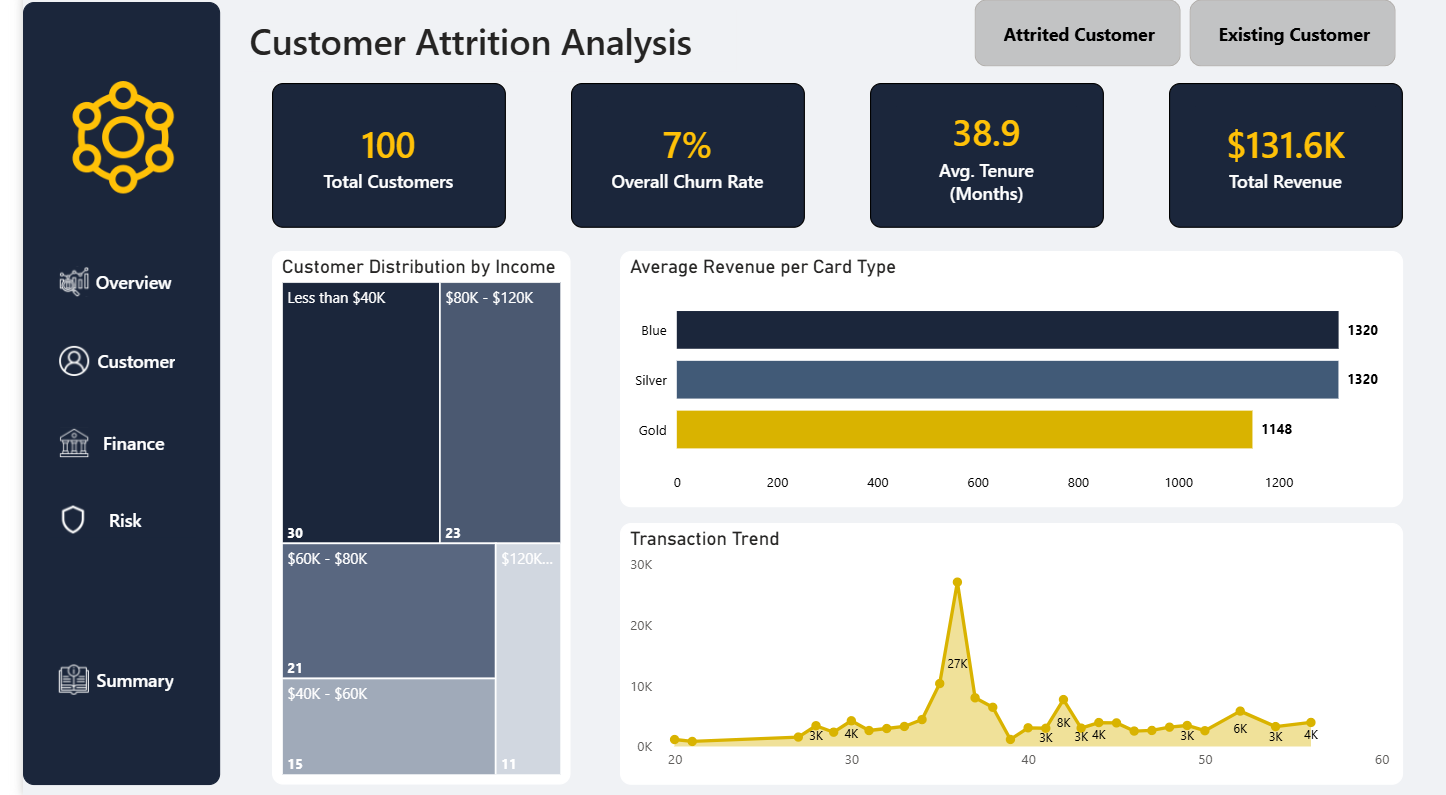

Layout of this report page (visuals, bound fields, positions):
{"tool":"powerbi","page":{"name":"Finance","canvas":[1280,720],"ordinal":2},"visuals":[{"type":"textbox","box":[198.2,14.5,441.8,55.5],"z":0},{"type":"shape","box":[0,7,177,703],"z":1000},{"type":"image","box":[4.5,78.2,171.8,100.9],"z":2000},{"type":"cardVisual","title":"Total Customers","fields":{"Data":["CountNonNull(Credit_Limits.Customer_ID)"]},"box":[223.6,80,210,130],"z":3000},{"type":"cardVisual","title":"Total Customers","fields":{"Data":["Overall_Churn.Churn_Rate_Final"]},"box":[492.1,80,210,130],"z":4000},{"type":"cardVisual","title":"Total Customers","fields":{"Data":["Avg(View_Monthly_Transaction_Trend.Tenure_Months)"]},"box":[760.6,80,210,130],"z":5000},{"type":"cardVisual","title":"Total Customers","fields":{"Data":["Sum(View_Monthly_Transaction_Trend.Sum_Transaction_Value)"]},"box":[1029.1,80,210,130],"z":6000},{"type":"treemap","title":"Customer Distribution by Income","fields":{"Group":["Customer.Income_Range"],"Values":["CountNonNull(Customer.Customer_ID)"]},"box":[223.5,230.7,268.4,479.4],"z":7000},{"type":"clusteredBarChart","title":"Average Revenue per Card Type","fields":{"Y":["Avg(Bank_Activity.Total_Transaction_Amount)"],"Category":["Bank_Activity.Card_Type"]},"box":[536,230.9,702.8,230],"z":8000},{"type":"stackedAreaChart","title":"Transaction Trend","fields":{"Category":["Bank_Activity.Tenure_Months"],"Y":["Sum(Bank_Activity.Total_Transaction_Amount)"]},"box":[536,474.6,702.8,234.6],"z":9000},{"type":"advancedSlicerVisual","fields":{"Values":["Bank_Activity.Churn_Status"]},"box":[849.1,0,389.1,70],"z":10000},{"type":"actionButton","box":[22.4,237.9,132.9,40.4],"z":11000},{"type":"actionButton","box":[22.4,308.2,132.9,43.1],"z":12000},{"type":"actionButton","box":[22.4,454.3,132.9,34.1],"z":13000},{"type":"actionButton","box":[22.4,381.2,132.9,43.1],"z":14000},{"type":"actionButton","box":[25,597,135,37],"z":15000},{"type":"textbox","box":[887,497.4,302.5,49.4],"z":16000}]}

Visuals, with their boxes in screenshot pixels (x1, y1, x2, y2), scaled from the page's 1280x720 canvas onto the 1446x795 screenshot:
textbox: <bbox>224, 16, 723, 77</bbox>
shape: <bbox>0, 8, 200, 784</bbox>
image: <bbox>5, 86, 199, 198</bbox>
"Total Customers" cardVisual: <bbox>253, 88, 490, 232</bbox>
"Total Customers" cardVisual: <bbox>556, 88, 793, 232</bbox>
"Total Customers" cardVisual: <bbox>859, 88, 1096, 232</bbox>
"Total Customers" cardVisual: <bbox>1163, 88, 1400, 232</bbox>
"Customer Distribution by Income" treemap: <bbox>252, 255, 556, 784</bbox>
"Average Revenue per Card Type" clusteredBarChart: <bbox>606, 255, 1399, 509</bbox>
"Transaction Trend" stackedAreaChart: <bbox>606, 524, 1399, 783</bbox>
advancedSlicerVisual - Bank_Activity.Churn_Status: <bbox>959, 0, 1399, 77</bbox>
actionButton: <bbox>25, 263, 175, 307</bbox>
actionButton: <bbox>25, 340, 175, 388</bbox>
actionButton: <bbox>25, 502, 175, 539</bbox>
actionButton: <bbox>25, 421, 175, 468</bbox>
actionButton: <bbox>28, 659, 181, 700</bbox>
textbox: <bbox>1002, 549, 1344, 604</bbox>
